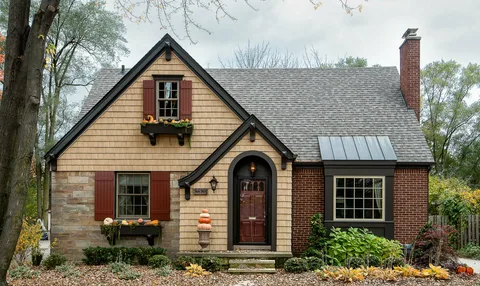private_hause: (46, 40, 435, 249)
